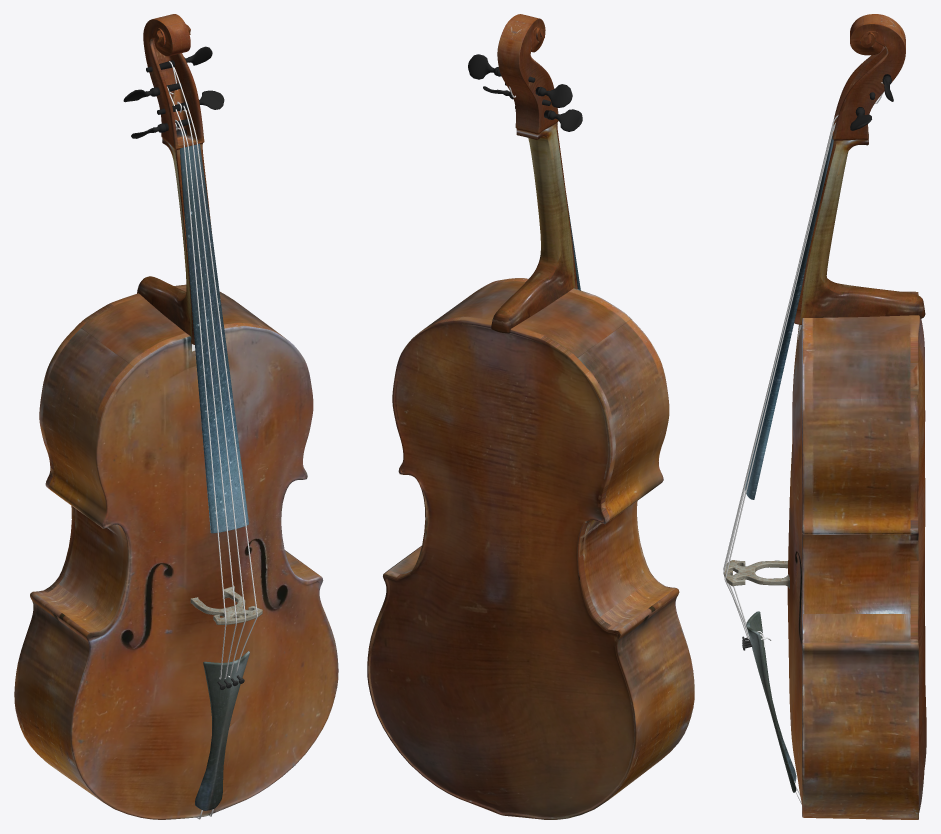
File: cello-antique.glb
3 renders of one model, left to right at view 1: azimuth 30°, elevation 25°; view 2: azimuth 150°, elevation 25°; view 3: azimuth 270°, elevation 25°, orthographic.
Parts seen in each view (by area): view 1: part0, part3, part4, part7, part5, part9, part11, part2, part10, part12; view 2: part0, part4, part5; view 3: part0, part4, part3, part7, part2, part9, part11, part5, part12.
Boxes of the visible parts, box(x1,y1,x2,y2) form: part0: box(14, 284, 338, 819); part3: box(180, 143, 248, 533); part4: box(137, 14, 211, 344); part7: box(195, 651, 249, 810); part5: box(123, 46, 224, 138); part9: box(169, 61, 257, 672); part11: box(177, 101, 246, 677); part2: box(190, 586, 262, 624); part10: box(175, 120, 226, 679); part12: box(167, 86, 236, 678); part0: box(367, 278, 694, 819); part4: box(491, 14, 577, 333); part5: box(468, 54, 582, 131); part0: box(787, 291, 926, 819); part4: box(794, 14, 925, 324); part3: box(745, 135, 833, 499); part7: box(746, 611, 796, 792); part2: box(724, 560, 789, 588); part9: box(724, 82, 883, 640); part11: box(723, 123, 835, 647); part5: box(850, 74, 893, 130); part12: box(723, 126, 834, 640).
Size of the model in its own units: 8.69 by 24 by 5.65.
9 materials, 5 textured.
